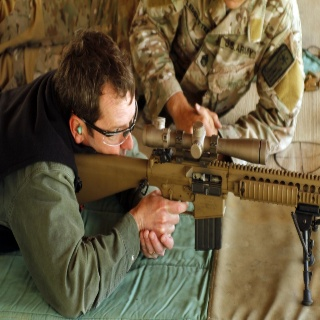rifle: (72, 120, 320, 306)
